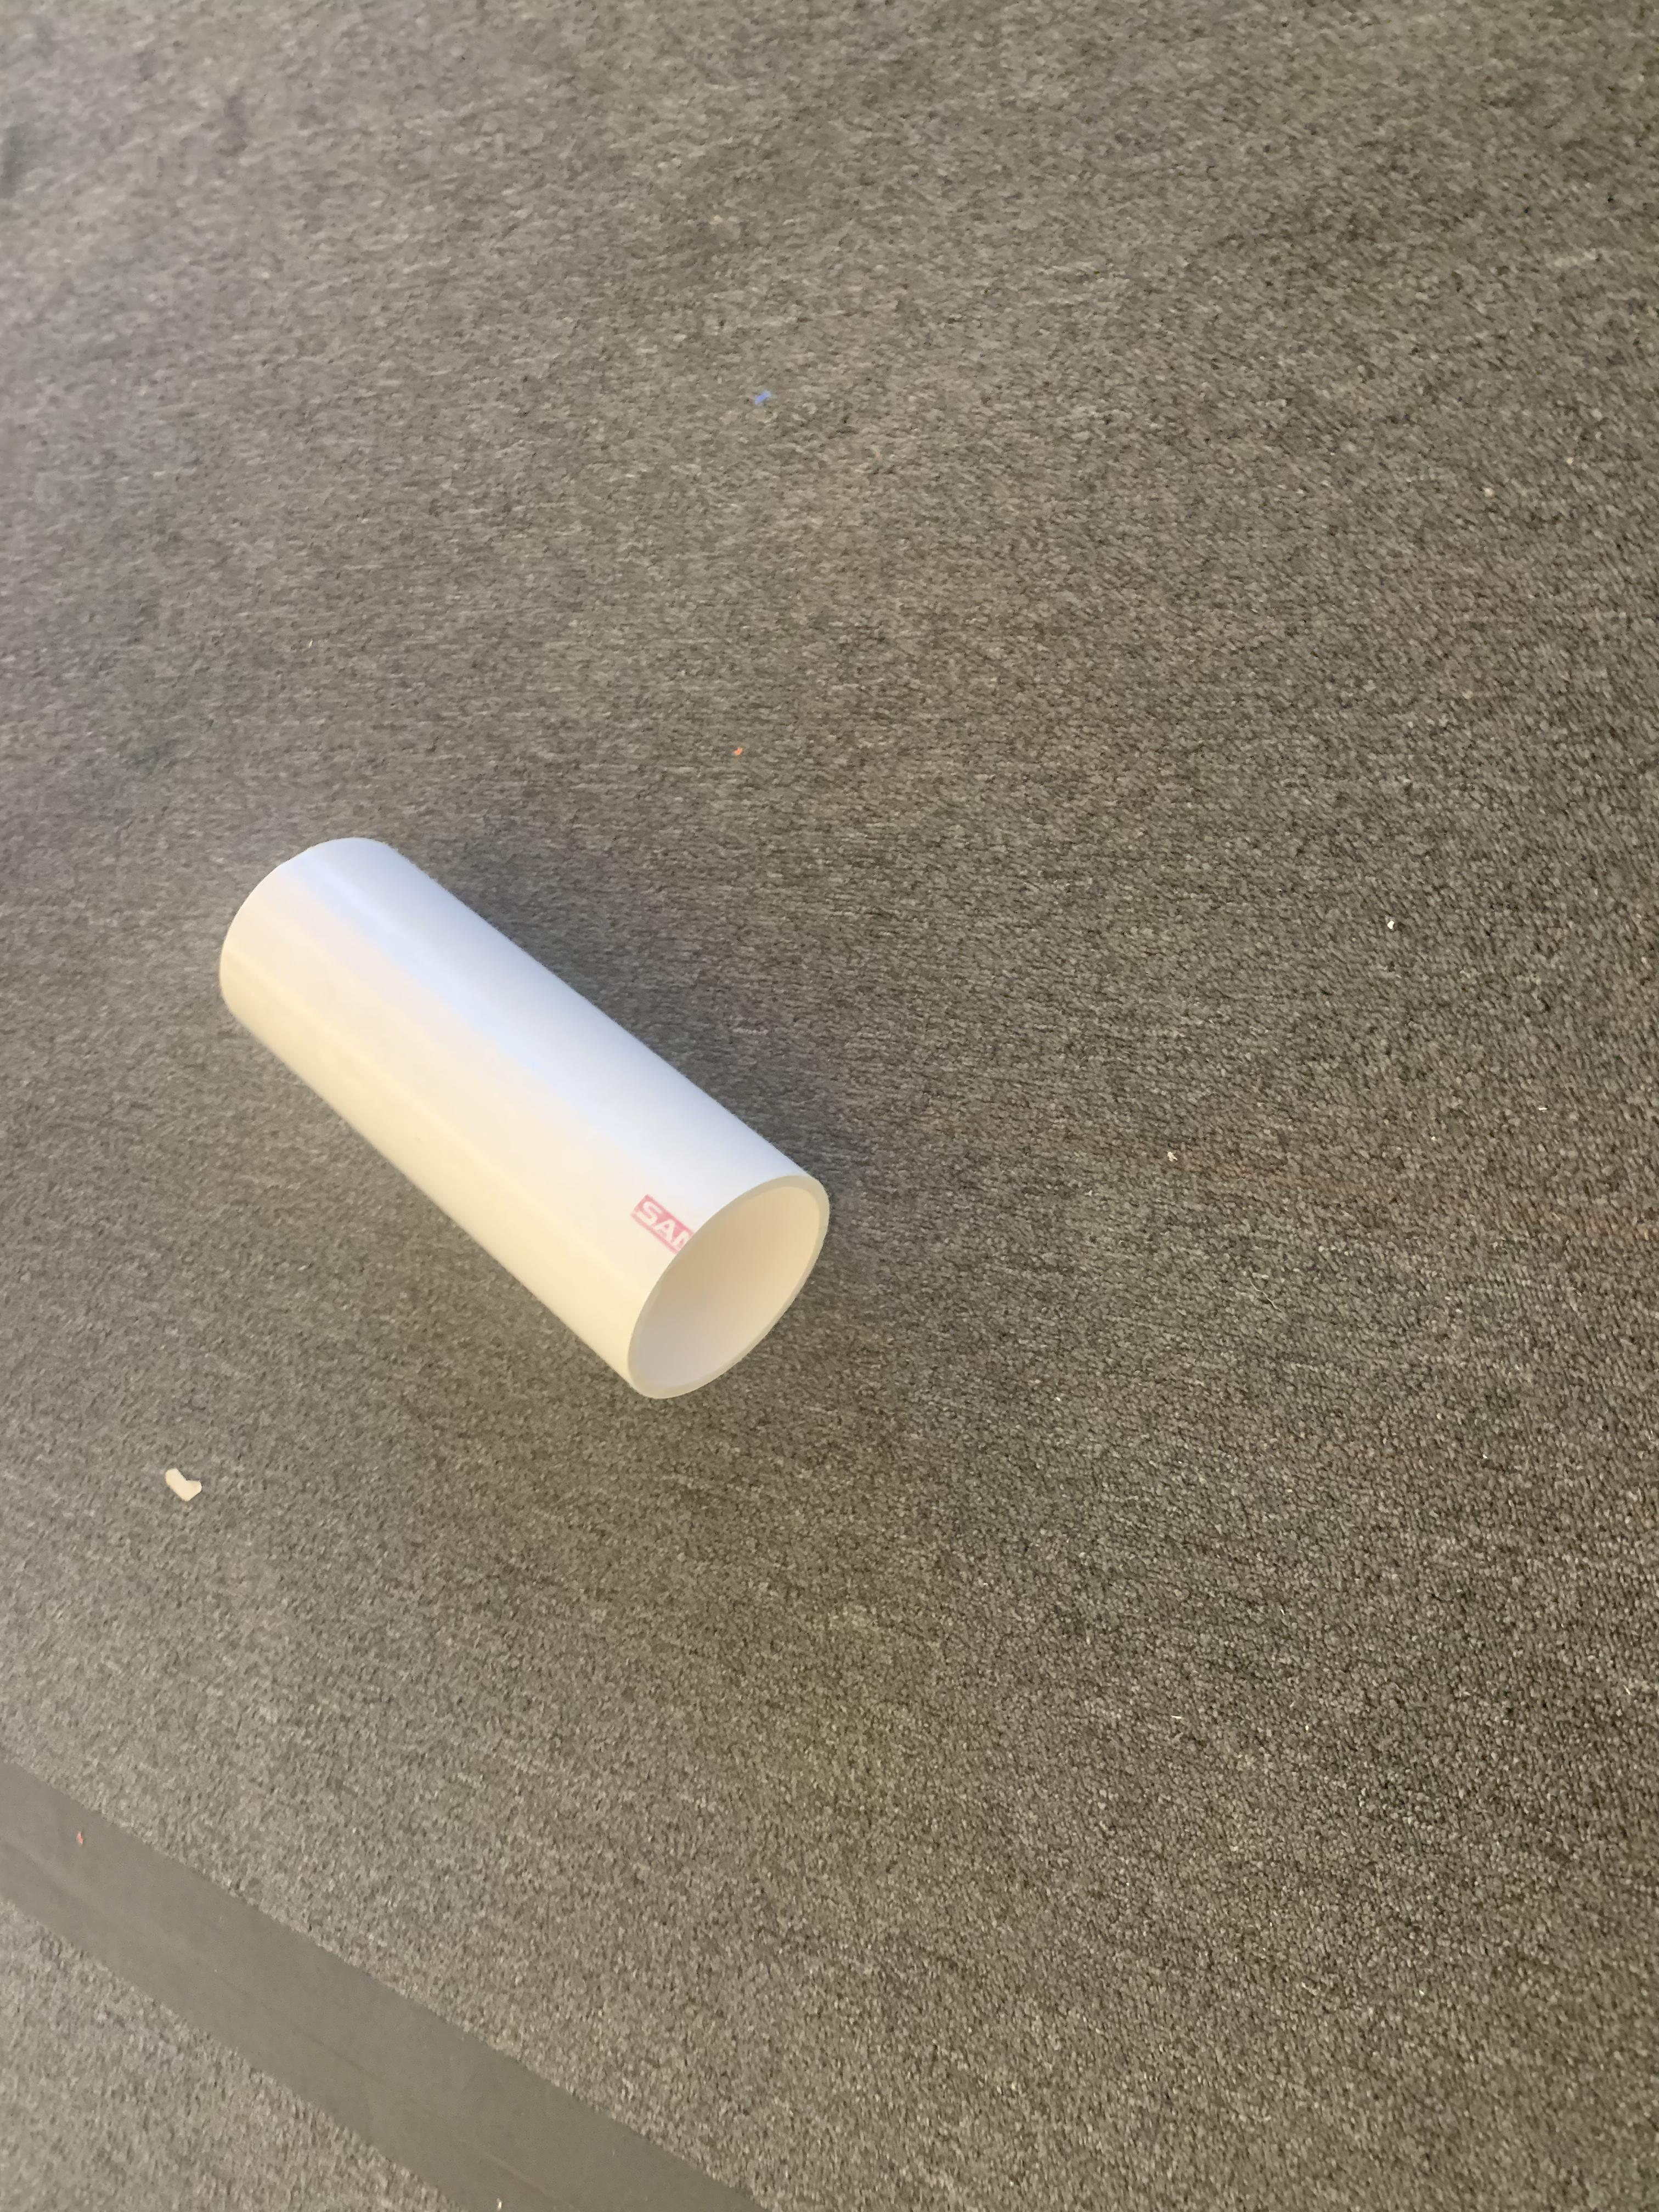coral: (214, 831, 833, 1402)
